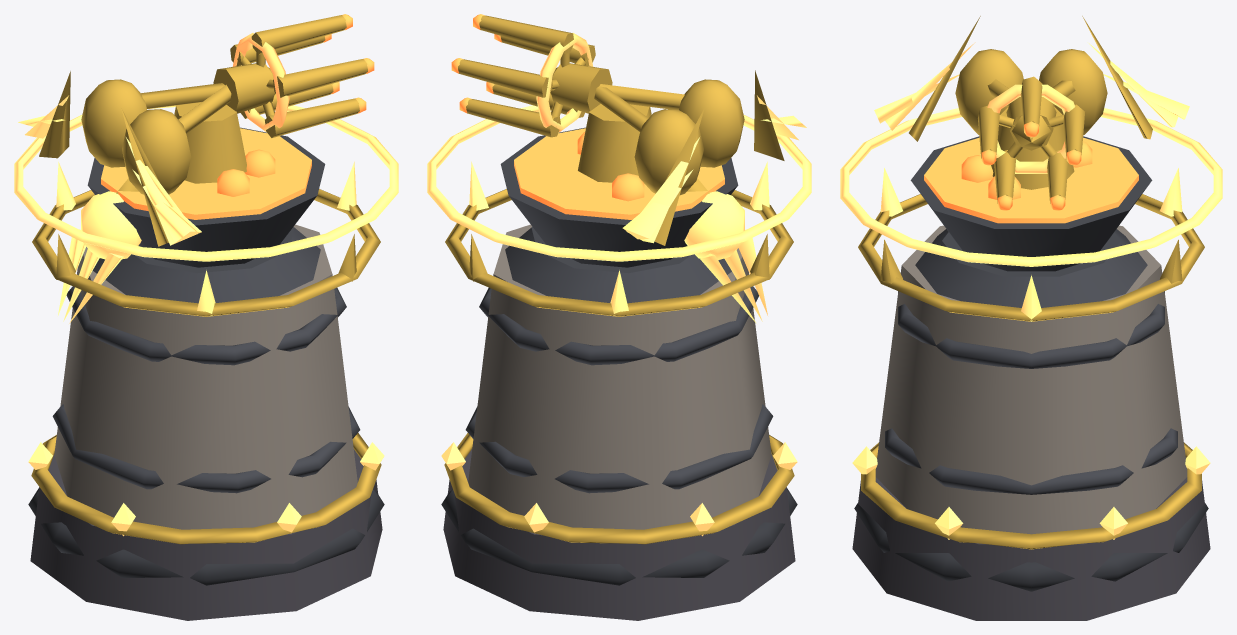
File: tower_flame_firestorm_ultimate.glb
The picture shows the model from 3 angles, left to right: view 1: azimuth 30°, elevation 25°; view 2: azimuth 150°, elevation 25°; view 3: azimuth 270°, elevation 25°; orthographic projection.
Visible parts, largest first — view 1: body, base, brazier_foot, coals, brazier_bowl, ult_halo, ult_phoenix, ult_ring, ult_crown_band, soot_ring, body_band_0.3, body_band_0.15 (+16 smaller); view 2: body, base, brazier_foot, coals, brazier_bowl, ult_halo, ult_phoenix, ult_ring, ult_crown_band, soot_ring, body_band_0.3, body_band_0.15 (+15 smaller); view 3: body, base, coals, brazier_foot, brazier_bowl, ult_halo, ult_crown_band, ult_ring, body_band_0.3, soot_ring, body_band_0.15, ult_phoenix (+16 smaller).
Boxes of the visible parts, x1,y1,x2,y2 form: body: (54,224,357,529); base: (30,449,382,620); brazier_foot: (93,227,320,303); coals: (101,128,311,219); brazier_bowl: (87,127,325,267); ult_halo: (14,105,398,261); ult_phoenix: (18,71,201,323); ult_ring: (31,433,381,544); ult_crown_band: (32,189,380,316); soot_ring: (28,488,384,585); body_band_0.3: (66,286,346,365); body_band_0.15: (52,404,360,493); body: (468,224,771,529); base: (443,449,795,620); brazier_foot: (505,227,731,303); coals: (514,128,724,219); brazier_bowl: (500,127,738,267); ult_halo: (427,105,811,261); ult_phoenix: (622,70,806,323); ult_ring: (444,433,794,544); ult_crown_band: (445,189,793,316); soot_ring: (441,488,797,585); body_band_0.3: (479,286,758,365); body_band_0.15: (465,404,773,493); body: (875,225,1187,534); base: (852,477,1210,620); coals: (924,137,1138,223); brazier_foot: (915,229,1147,307); brazier_bowl: (910,136,1152,271); ult_halo: (840,108,1222,266); ult_crown_band: (858,194,1204,321); ult_ring: (861,442,1201,549); body_band_0.3: (898,291,1164,368); soot_ring: (854,503,1208,591); body_band_0.15: (885,428,1177,494); ult_phoenix: (874,16,1189,141).
Bounding box in the file's own units: 0.434 × 0.6127 × 0.4274.
